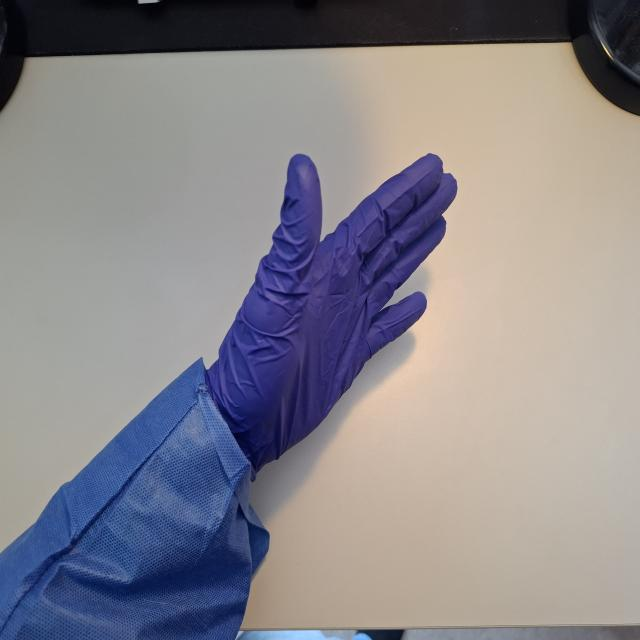glove_on: (200, 151, 460, 480)
